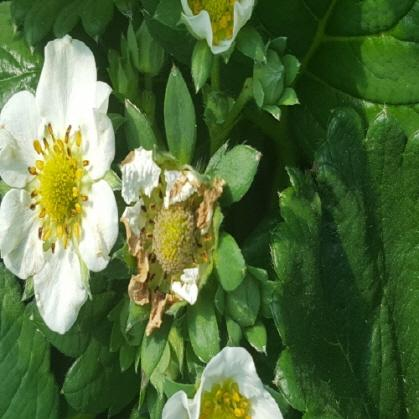Blossom Blight: (136, 171, 212, 299), (25, 121, 91, 257)
